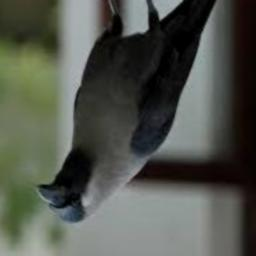Crow: (36, 0, 231, 225)
